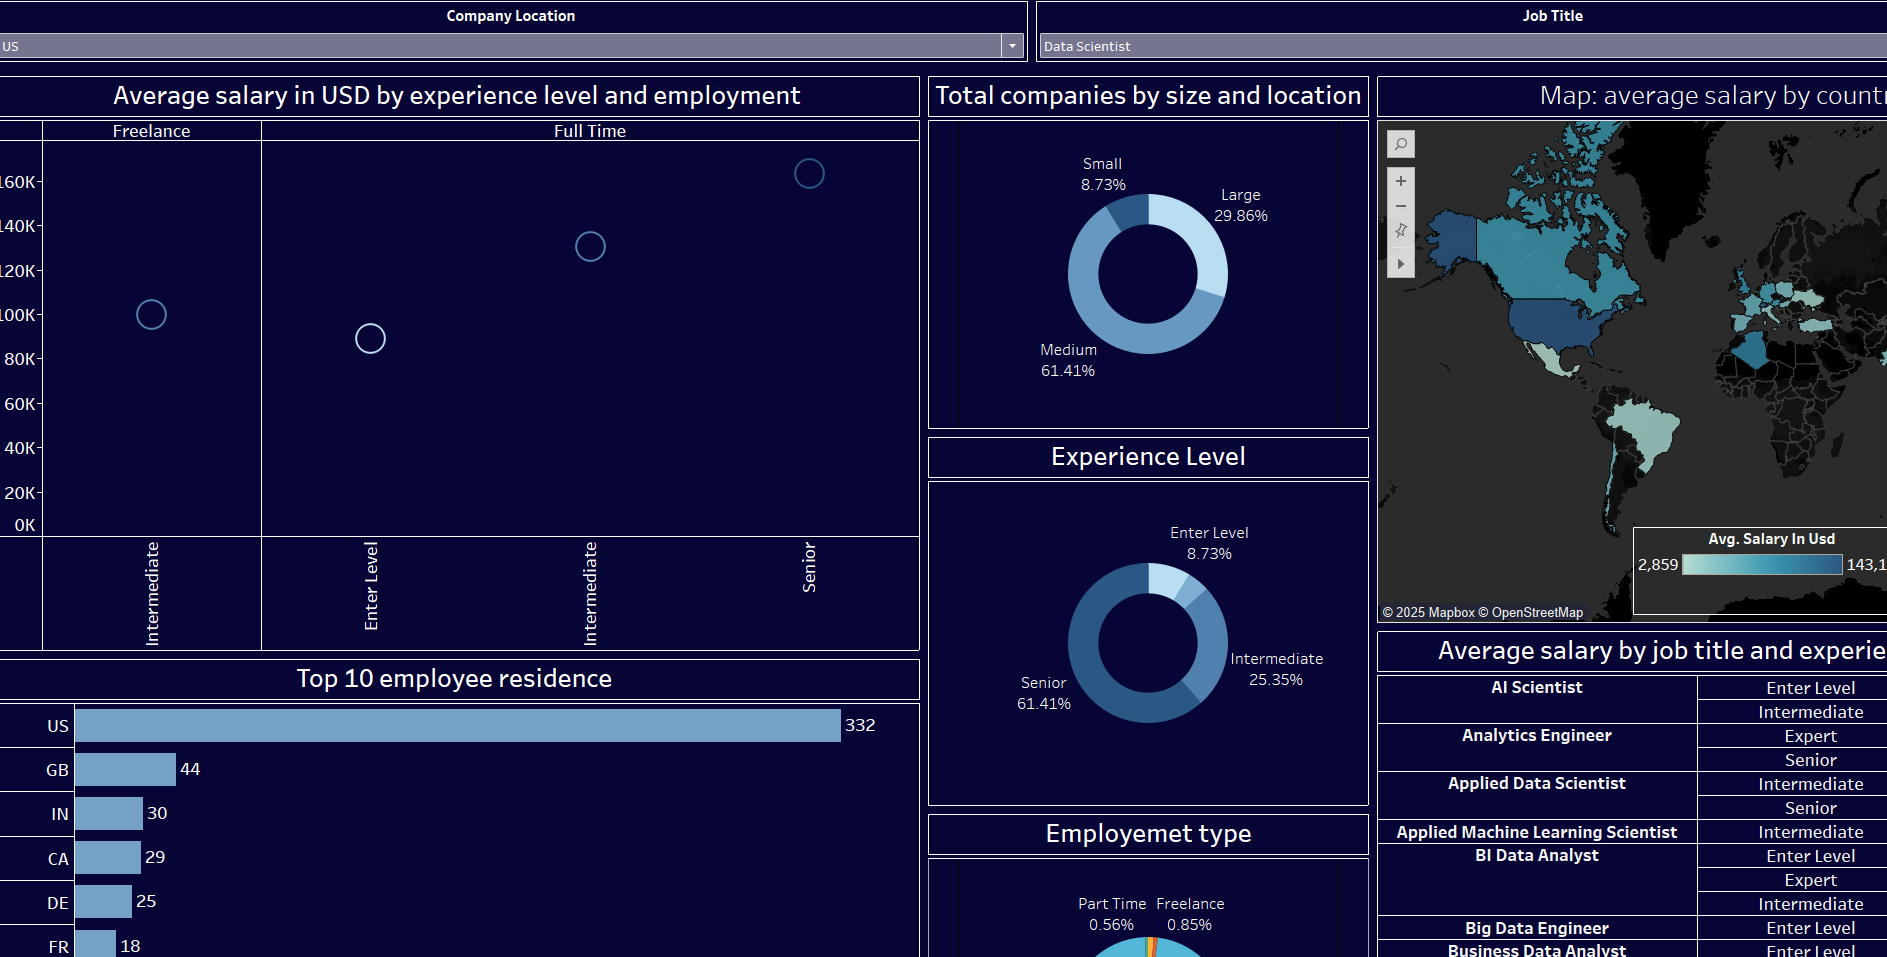

The dashboard page shown, as its layout file describes it:
{"tool":"tableau","page":{"name":"Dashboard 1","canvas":[2100,1200],"ordinal":0},"visuals":[{"type":"filter","title":"Total companies by size and location","param":"[federated.1f3pl5i0rxo7o512lec4e0umdrc0].[none:company_location:nk]","box":[8,8,1042,69]},{"type":"filter","title":"Map: average salary by country","param":"[federated.1f3pl5i0rxo7o512lec4e0umdrc0].[none:job_title:nk]","box":[1050,8,1042,69]},{"type":"worksheet","title":"Average salary in USD by experience level and employment","mark":"Shape","rows":["salary"],"cols":["employment_type","experience_level"],"box":[8,83,934,583]},{"type":"worksheet","title":"Total companies by size and location","mark":"Pie","rows":["Calculation_368450782745497601","Calculation_368450782745587715"],"box":[942,83,449,361]},{"type":"worksheet","title":"Map: average salary by country","mark":"Automatic","box":[1391,83,701,554.5]},{"type":"worksheet","title":"Experience Level","mark":"Pie","rows":["Calculation_368450782745497601","Calculation_368450782745587715"],"box":[942,444,449,377]},{"type":"legend","title":"Map: average salary by country","param":"[federated.1f3pl5i0rxo7o512lec4e0umdrc0].[avg:salary_in_usd:qk]","box":[1651,538,278,88]},{"type":"worksheet","title":"Average salary by job title and experience level","mark":"Square","rows":["job_title","experience_level"],"box":[1391,637.5,701,554.5]},{"type":"worksheet","title":"Top 10 employee residence ","mark":"Automatic","rows":["employee_residence"],"cols":["employee_residence"],"box":[8,666,934,526]},{"type":"worksheet","title":"Employemet type","mark":"Pie","rows":["Calculation_368450782745497601","Calculation_368450782745587715"],"box":[942,821,449,371]}]}

Visuals, with their boxes on the page's 2100x1200 design canvas (x1, y1, x2, y2). These are canvas units, not pixel positions in the 1887x957 screenshot, which may show the page scaled, cropped or inside an application window:
"Total companies by size and location" filter: (8, 8, 1050, 77)
"Map: average salary by country" filter: (1050, 8, 2092, 77)
"Average salary in USD by experience level and employment" worksheet (Shape marks): (8, 83, 942, 666)
"Total companies by size and location" worksheet (Pie marks): (942, 83, 1391, 444)
"Map: average salary by country" worksheet: (1391, 83, 2092, 638)
"Experience Level" worksheet (Pie marks): (942, 444, 1391, 821)
"Map: average salary by country" legend: (1651, 538, 1929, 626)
"Average salary by job title and experience level" worksheet (Square marks): (1391, 638, 2092, 1192)
"Top 10 employee residence " worksheet: (8, 666, 942, 1192)
"Employemet type" worksheet (Pie marks): (942, 821, 1391, 1192)
